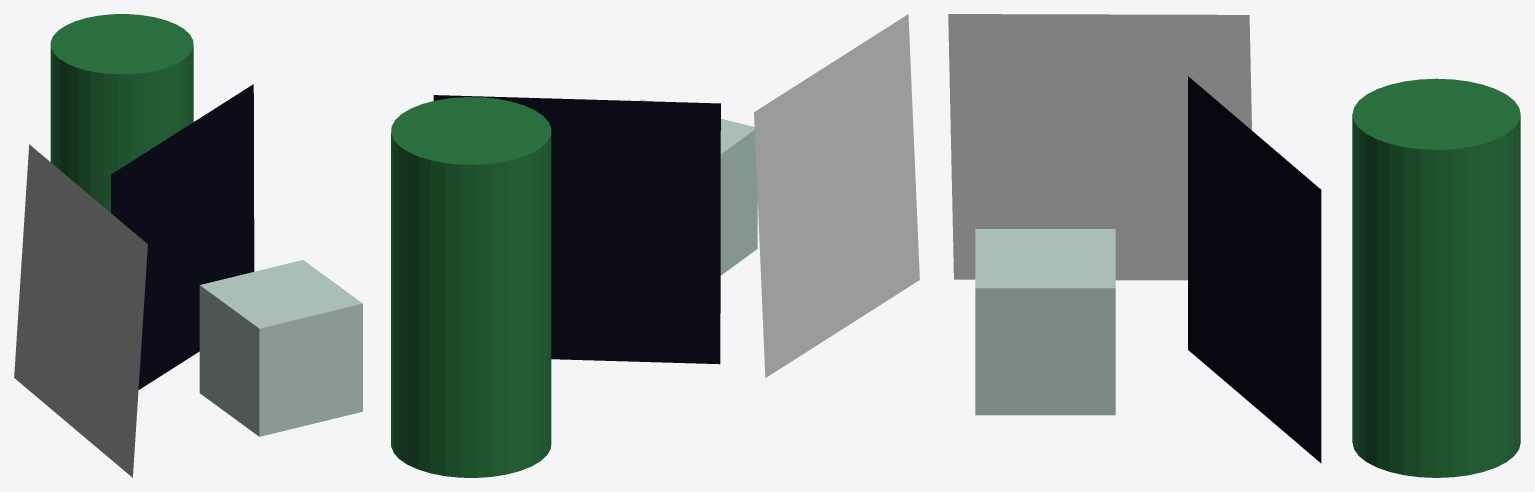
File: SimpleSceneEg.fbx
3 renders of one model, left to right at view 1: azimuth 30°, elevation 25°; view 2: azimuth 150°, elevation 25°; view 3: azimuth 270°, elevation 25°, orthographic. The views are drawn at different scales.
Visible parts, largest first — view 1: Plane.002, Plane, Cube, Cylinder; view 2: Cylinder, Plane, Plane.002, Cube; view 3: Cylinder, Plane.002, Plane, Cube.
Part boxes in pixels (x1,y1,x2,y2): Plane.002: (14,144,147,477); Plane: (111,84,254,389); Cube: (199,260,362,436); Cylinder: (50,14,193,212); Cylinder: (391,97,551,477); Plane: (433,95,720,364); Plane.002: (754,14,919,377); Cube: (640,99,757,275); Cylinder: (1352,78,1520,477); Plane.002: (948,14,1251,280); Plane: (1188,76,1321,463); Cube: (975,229,1115,415).
Size of what is drawn, in the model's own units: 250 by 240 by 380.
